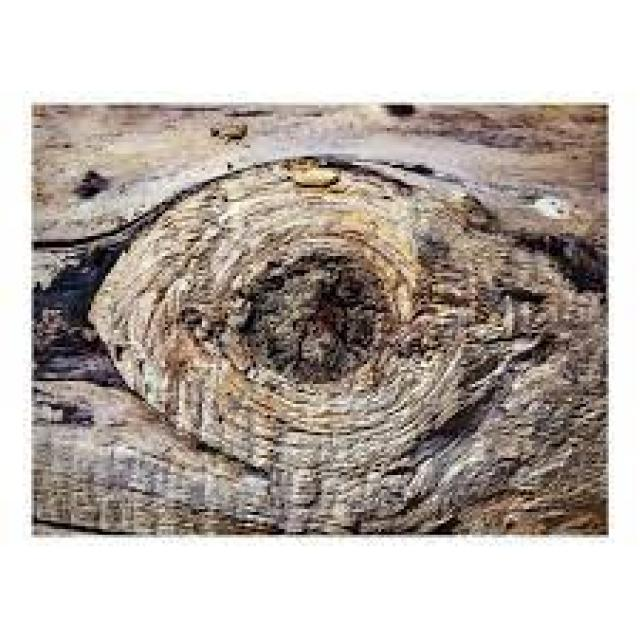have-wooden-eyes: (240, 249, 386, 382)
